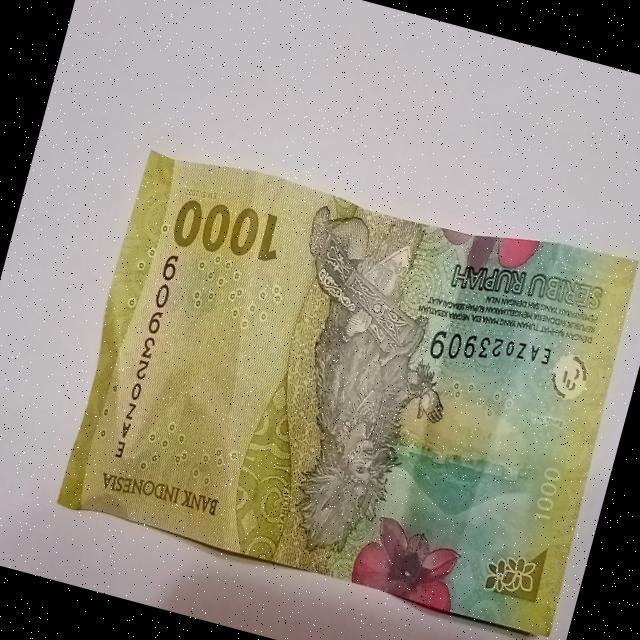1K: (40, 133, 640, 640)
